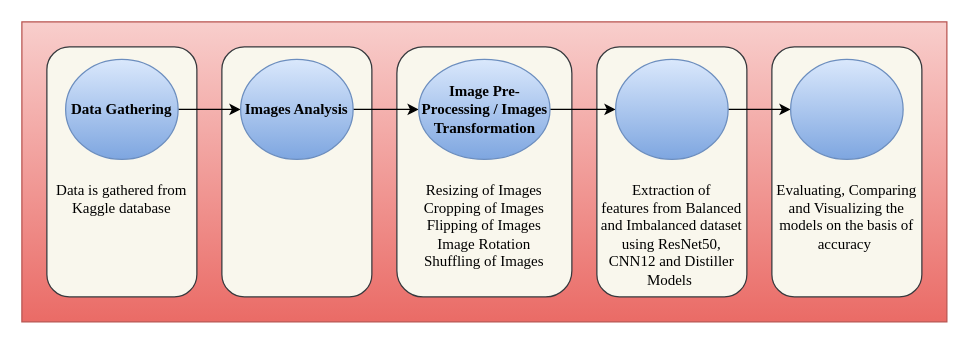
This 969x344 diagram has some shape labels left out. The box of each missing label's shape, as (x1, y1, x2, y2) in pixels:
Data Mining: (614, 58, 728, 159)
Models Evaluation: (789, 58, 903, 159)
Number of Images in dataset and size of images: (221, 46, 372, 297)
